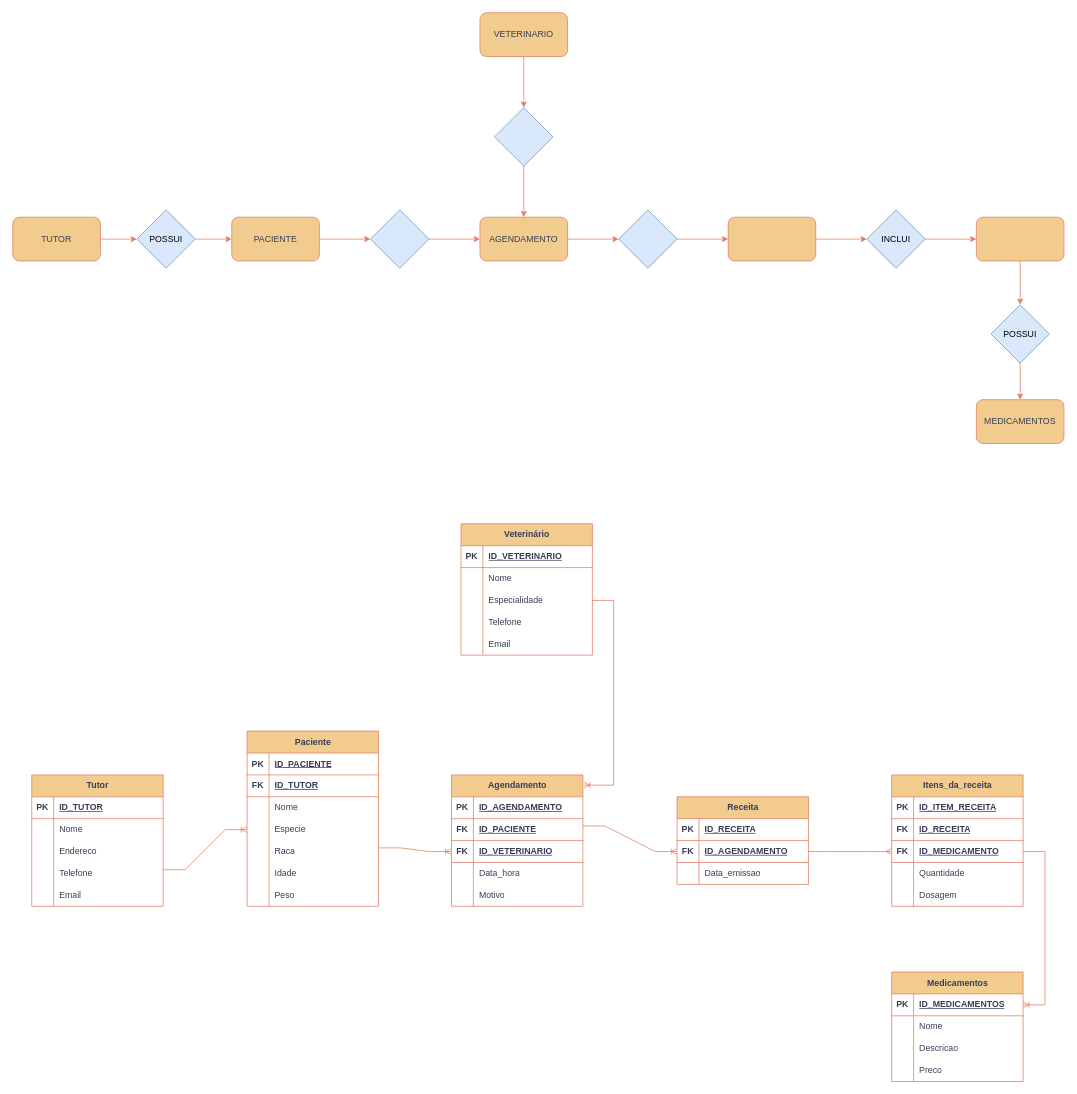
The diagram is 1077 pixels wide and 1094 high, and some of its shapes have lost their labels. The shapes that lost their labels are listed below. From the top down, each one's centre as x and y in pixels, then its label:
At point (523, 136): "REALIZA".
At point (399, 238): "FAZ".
At point (647, 238): "GERA".
At point (771, 238): "RECEITAS".
At point (1020, 238): "ITENS DA RECEITA".
